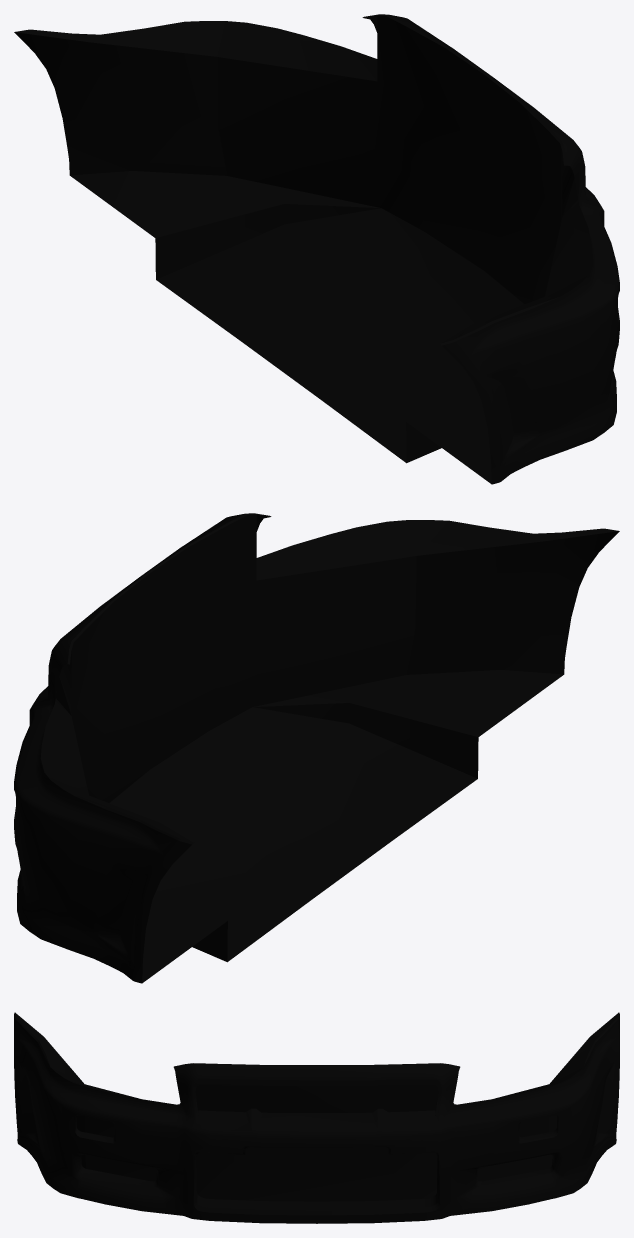
The model's file is gallo99_bumper_front_gallo99_bodymat_0.001_lev3.glb.
The picture shows the model from 3 angles, top to bottom: view 1: azimuth 30°, elevation 25°; view 2: azimuth 150°, elevation 25°; view 3: azimuth 270°, elevation 25°; orthographic projection. The views are drawn at different scales.
Visible parts, largest first — view 1: gallo99_bumper_front_gallo99_bodymat_0.001_lev3; view 2: gallo99_bumper_front_gallo99_bodymat_0.001_lev3; view 3: gallo99_bumper_front_gallo99_bodymat_0.001_lev3.
Part boxes in pixels (box(x1,y1,x2,y2)): gallo99_bumper_front_gallo99_bodymat_0.001_lev3: box(14, 14, 619, 484); gallo99_bumper_front_gallo99_bodymat_0.001_lev3: box(14, 513, 619, 983); gallo99_bumper_front_gallo99_bodymat_0.001_lev3: box(14, 1012, 619, 1223).
Bounding box in the file's own units: 0.7362 × 0.5756 × 1.8.
1 material, 1 textured.
